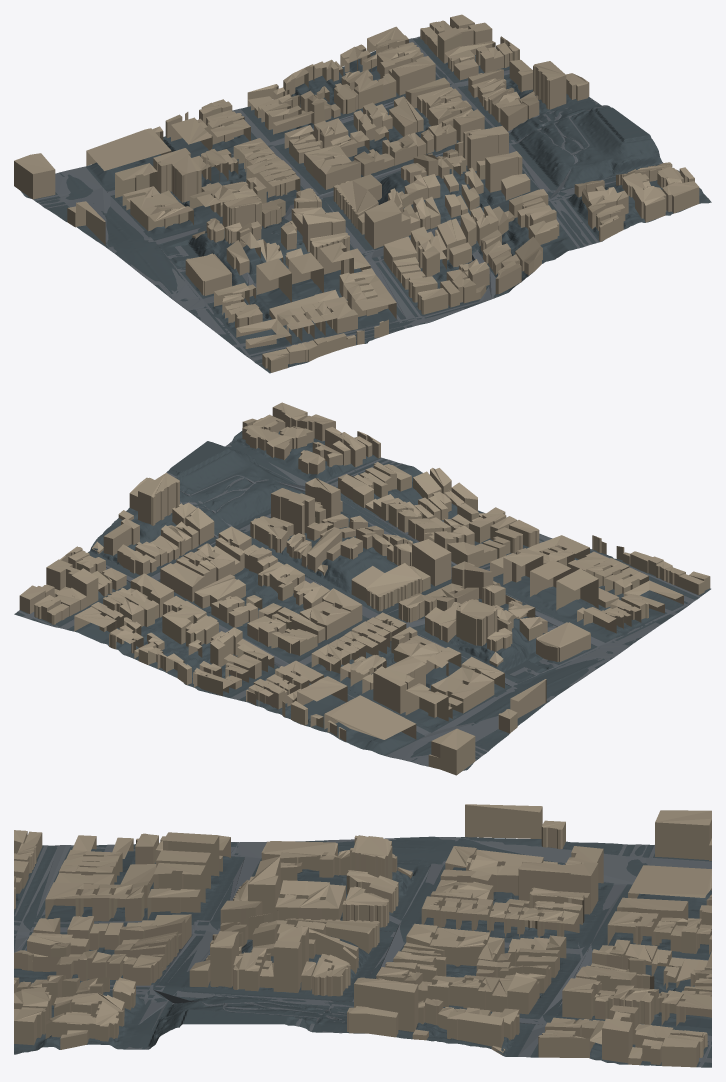
File: epsg26910-1434-10895.lod0.glb
3 renders of one model, top to bottom at view 1: azimuth 30°, elevation 25°; view 2: azimuth 150°, elevation 25°; view 3: azimuth 270°, elevation 25°, orthographic. The views are drawn at different scales.
Visible parts, largest first — view 1: epsg26910-1434-10895-lod0; view 2: epsg26910-1434-10895-lod0; view 3: epsg26910-1434-10895-lod0.
Part boxes in pixels (left/top/right/bottom): epsg26910-1434-10895-lod0: left=14, top=14, right=711, bottom=373; epsg26910-1434-10895-lod0: left=14, top=402, right=710, bottom=775; epsg26910-1434-10895-lod0: left=14, top=804, right=711, bottom=1067.
Bounding box in the file's own units: 384 × 88.42 × 384.
